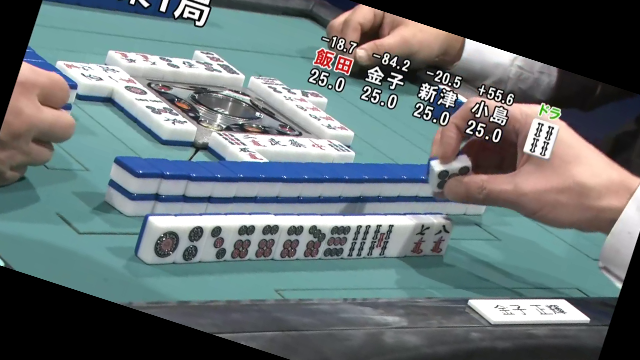Tehai: (141, 212, 450, 263)
